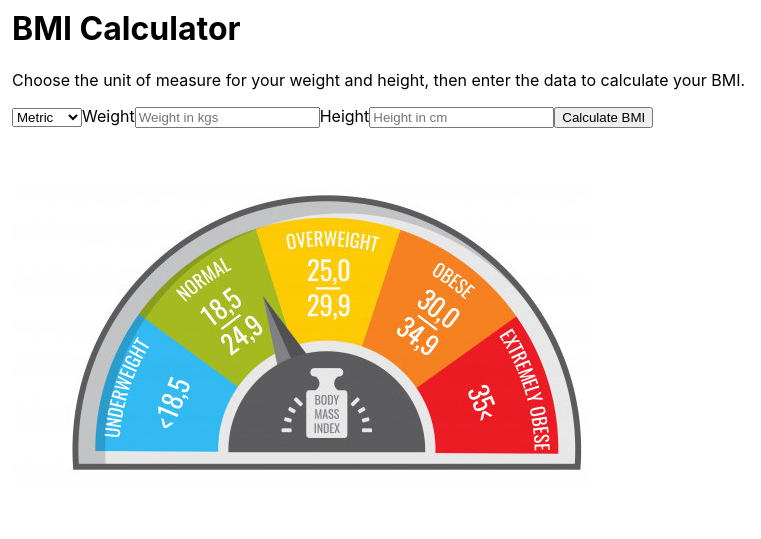
Scenario: BMI Calculator › Calculates BMI in imperial
Select "Imperial" in the dropdown with id "unit": (47, 118) [12,108,82,127]
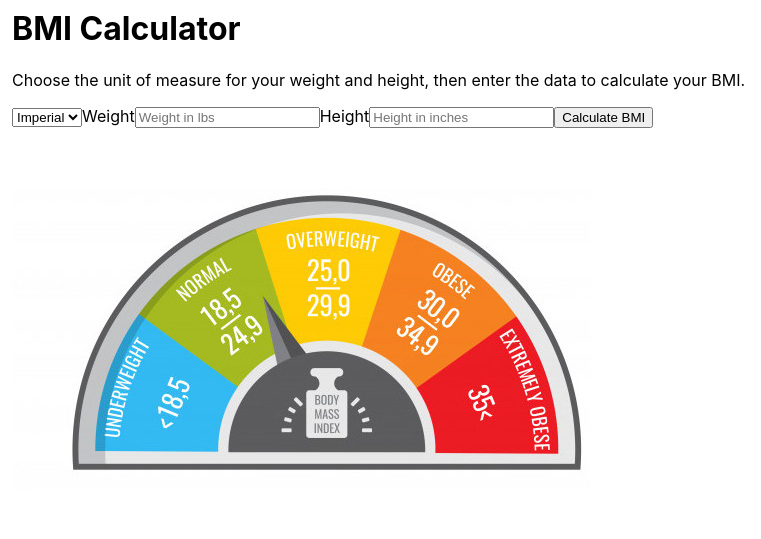
In the number field with id "weight": (228, 118) [135,107,320,128], type "198"
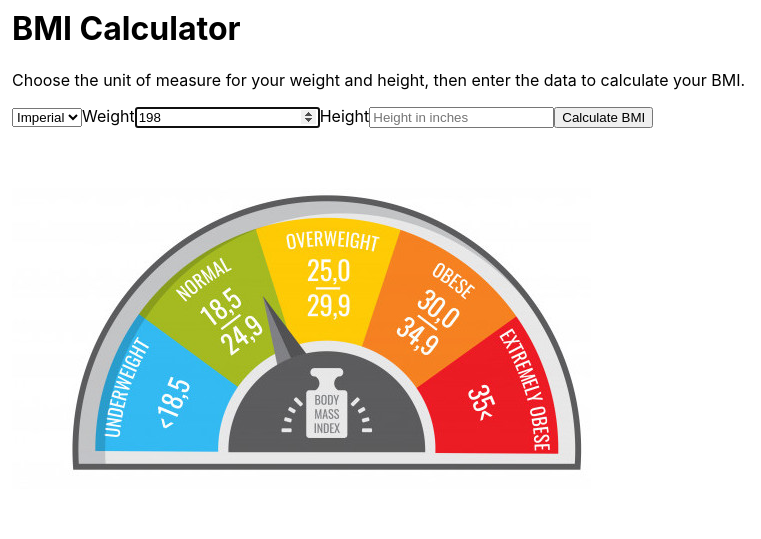
In the number field with id "height": (462, 118) [369,107,554,128], type "74"
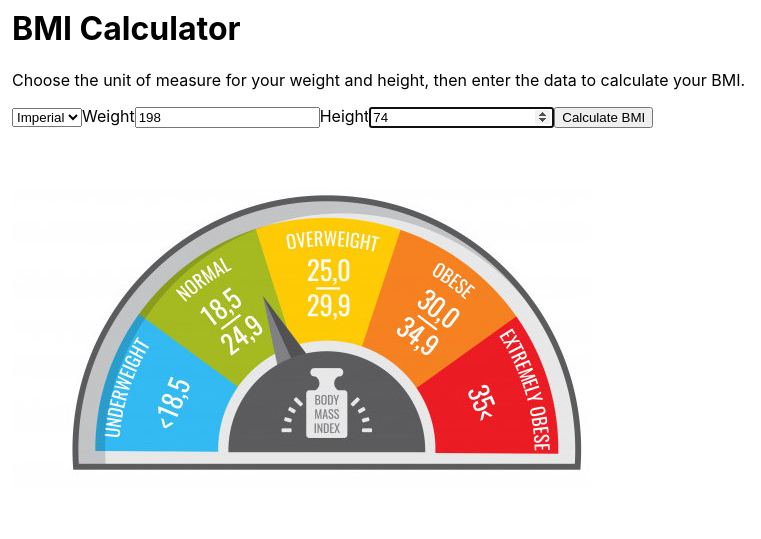
Click the button with id "calculate": click(604, 118) [554,107,653,128]
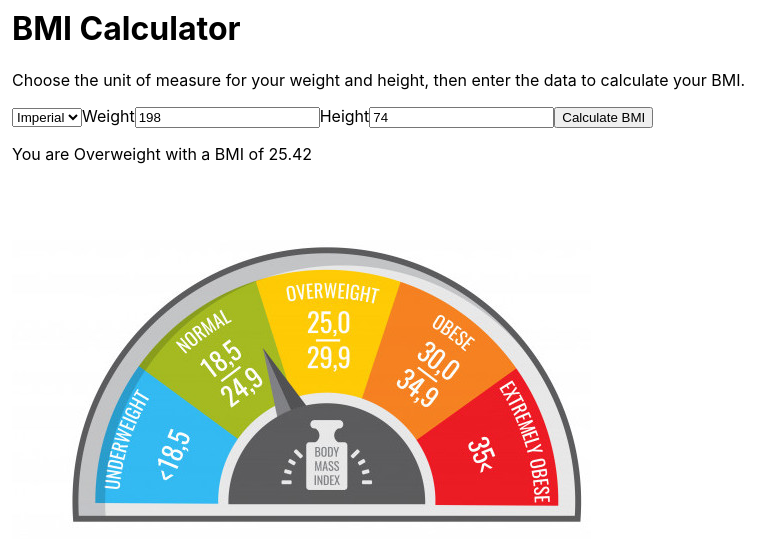
Result: the text with id "bmi-message" reads "You are Overweight with a BMI of 25.42" at [12,144,312,164]
